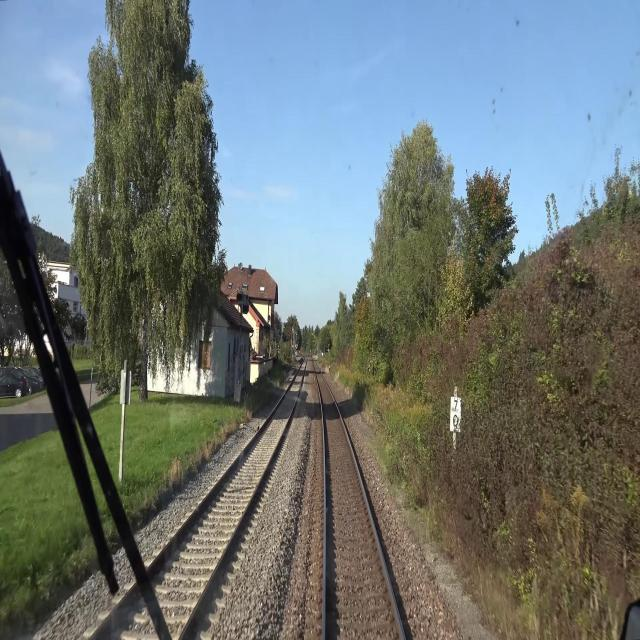rail-track: (150, 364, 303, 639), (316, 367, 401, 639)
